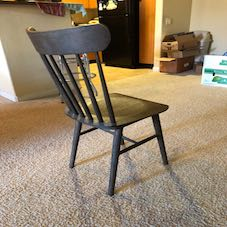chair: (9, 8, 191, 203)
